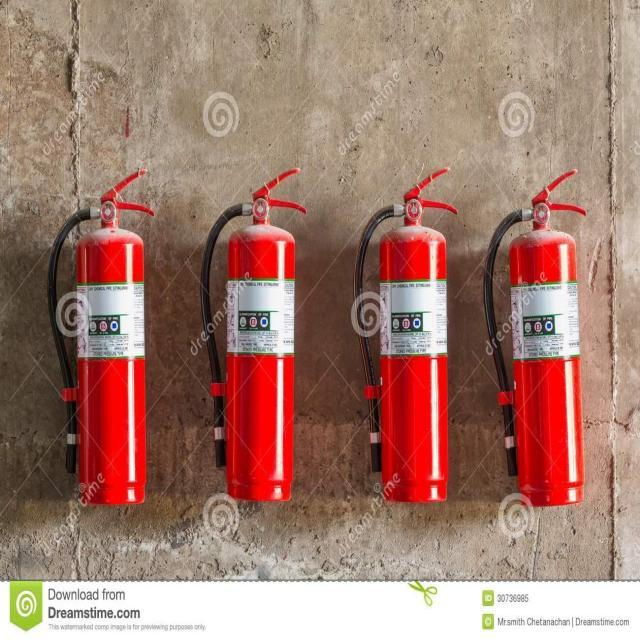fire_extinguisher: (44, 164, 160, 507), (196, 163, 311, 504), (480, 163, 590, 512), (353, 163, 461, 507)
